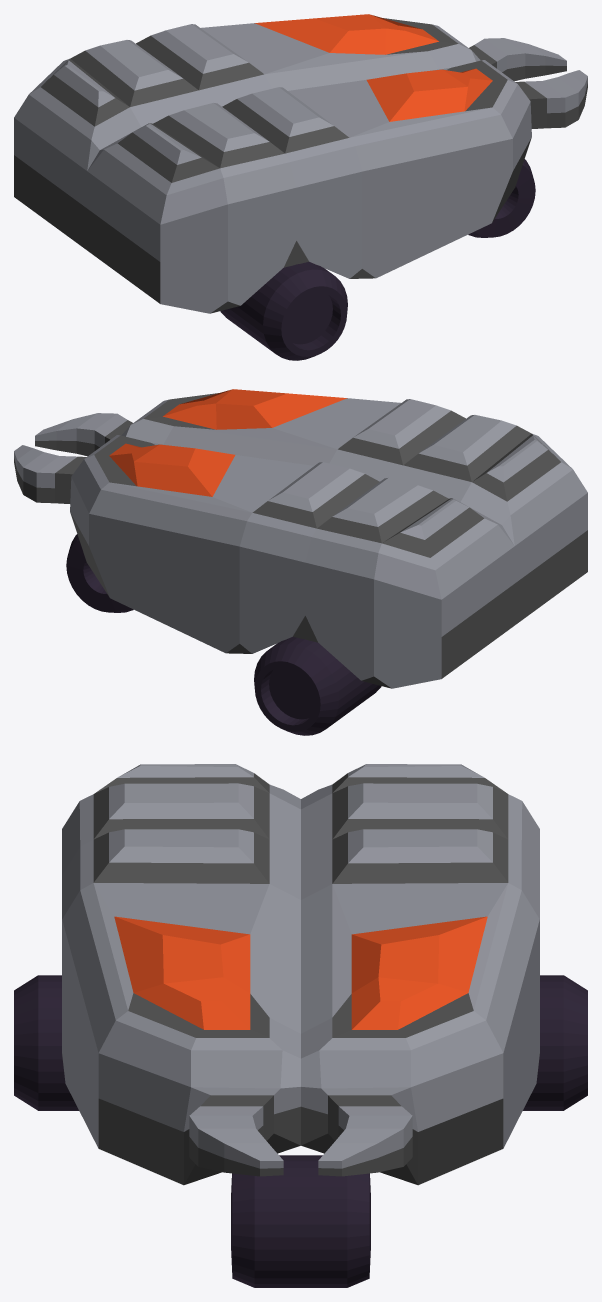
Rendered from pinchRumba.fbx.
The picture shows the model from 3 angles, top to bottom: view 1: azimuth 30°, elevation 25°; view 2: azimuth 150°, elevation 25°; view 3: azimuth 270°, elevation 25°; orthographic projection. The views are drawn at different scales.
Visible parts, largest first — view 1: Cube, Cylinder, Cylinder.001; view 2: Cube, Cylinder, Cylinder.001; view 3: Cube, Cylinder.001, Cylinder.
Part boxes in pixels (bbox=[...]): Cube: bbox=[14, 14, 587, 313]; Cylinder: bbox=[220, 261, 347, 360]; Cylinder.001: bbox=[468, 159, 535, 237]; Cube: bbox=[14, 389, 587, 688]; Cylinder: bbox=[254, 636, 381, 735]; Cylinder.001: bbox=[66, 534, 133, 612]; Cube: bbox=[62, 764, 539, 1185]; Cylinder.001: bbox=[231, 1155, 370, 1287]; Cylinder: bbox=[14, 975, 587, 1110].
Size of the model in its own units: 284 by 383 by 158.
